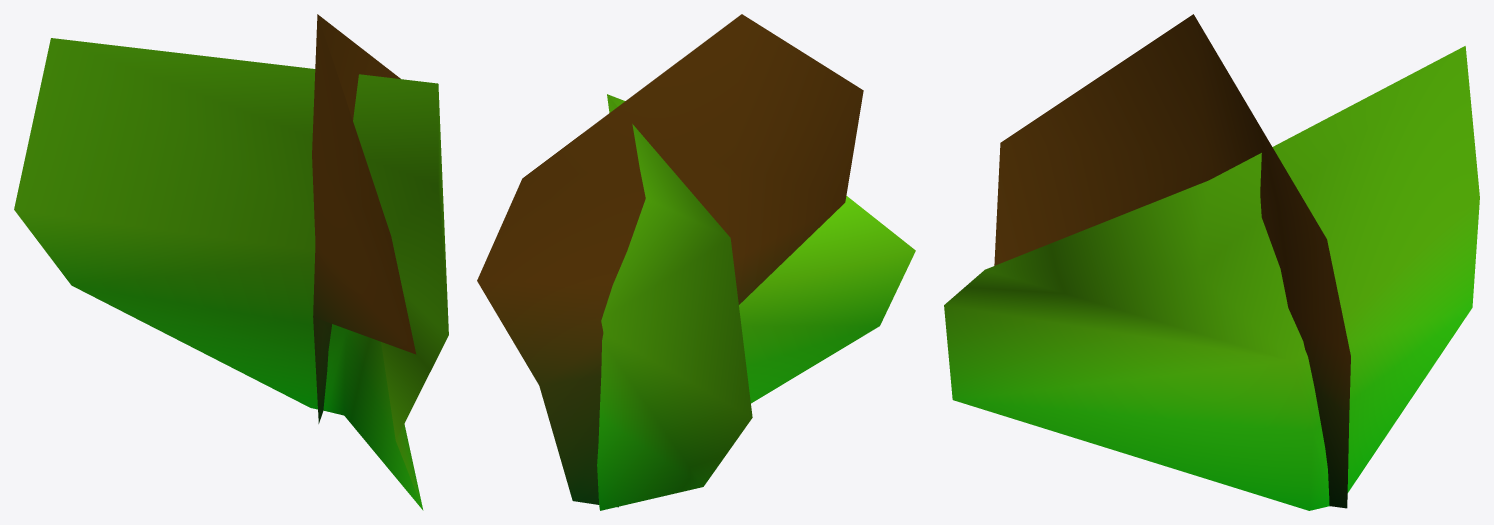
Rendered from Var1Hi21.fbx.
The picture shows the model from 3 angles, left to right: view 1: azimuth 30°, elevation 25°; view 2: azimuth 150°, elevation 25°; view 3: azimuth 270°, elevation 25°; orthographic projection. The views are drawn at different scales.
Visible parts, largest first — view 1: bend1; view 2: bend1; view 3: bend1.
Boxes of the visible parts, x1,y1,x2,y2 form: bend1: (14,14,448,510); bend1: (477,14,915,510); bend1: (944,14,1479,510).
Bounding box in the file's own units: 1.04 × 1.35 × 1.42.
